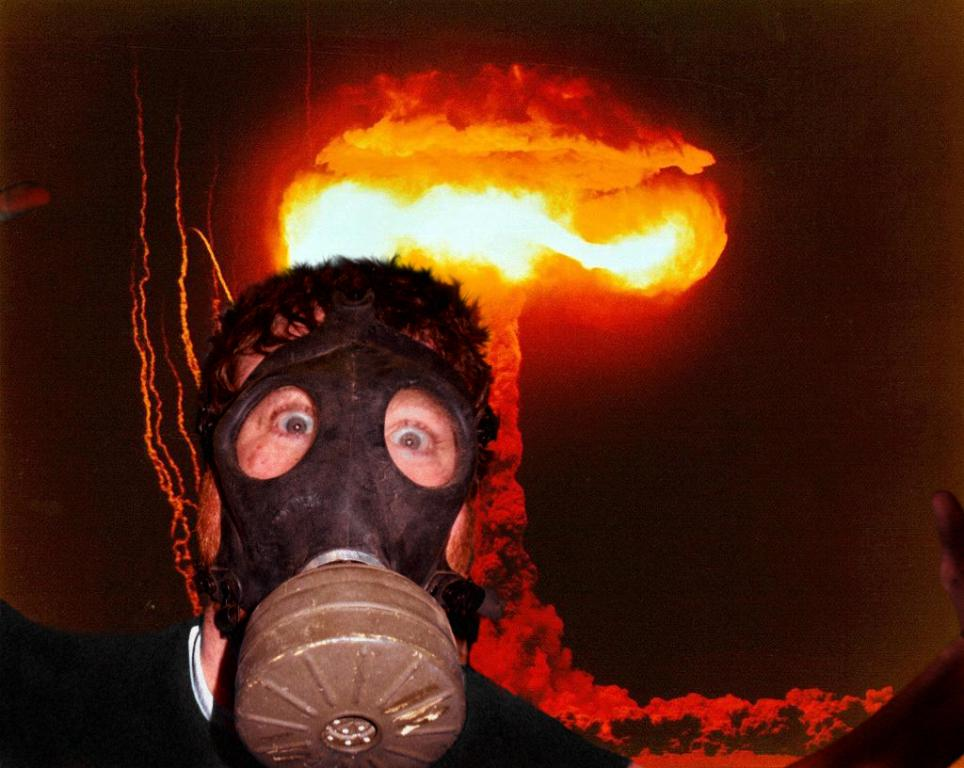Person: (1, 247, 964, 768)
